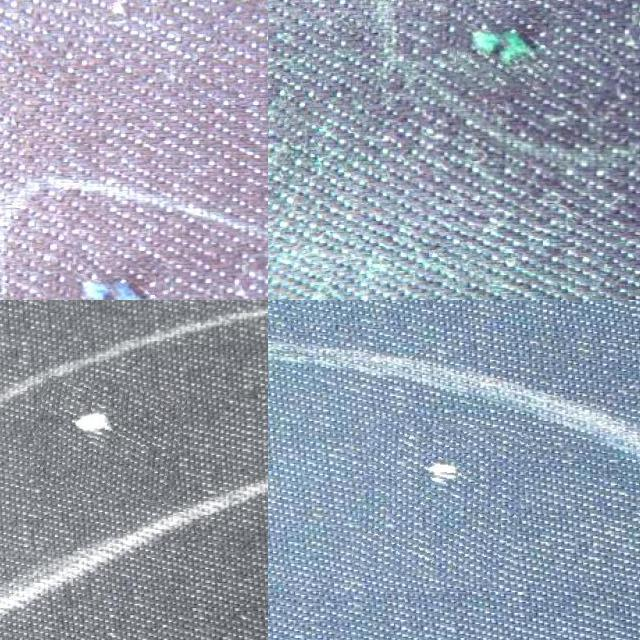Thread_other: (358, 418, 526, 582), (31, 379, 183, 499), (455, 5, 561, 91), (65, 255, 171, 300)
